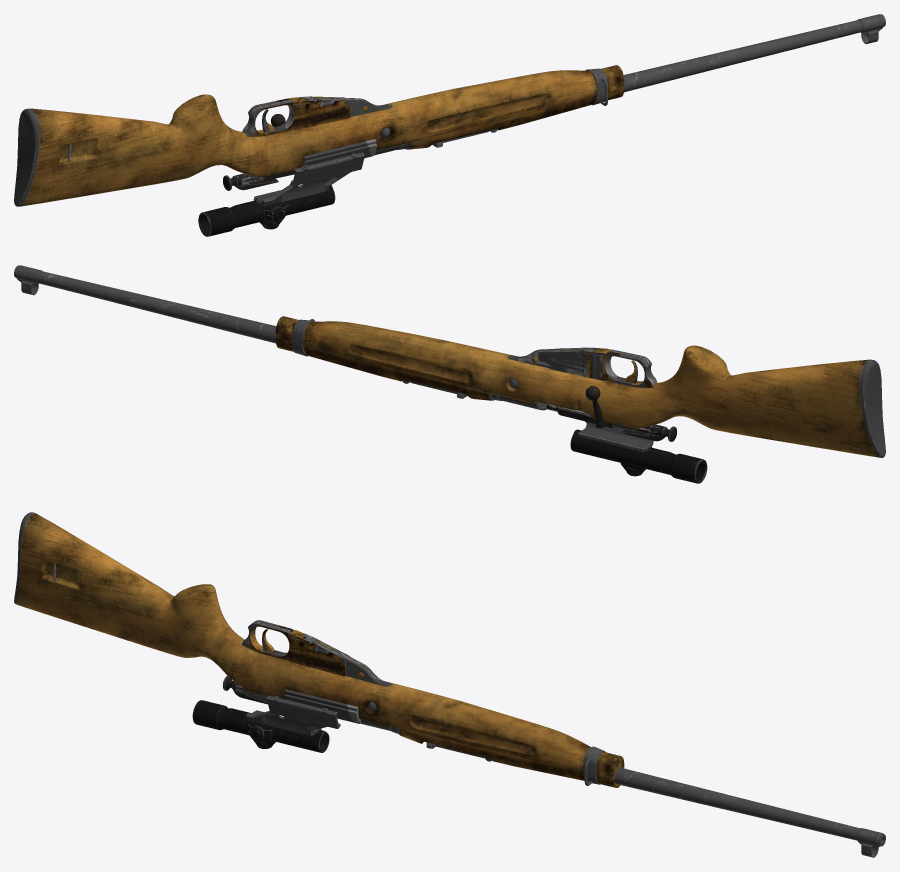
Rendered from nosin.glb.
3 renders of one model, top to bottom at view 1: azimuth 30°, elevation 25°; view 2: azimuth 150°, elevation 25°; view 3: azimuth 330°, elevation 25°, orthographic.
Visible parts, largest first — view 1: base; view 2: base; view 3: base.
Part boxes in pixels (box(x1,y1,x2,y2)): base: box(14, 14, 885, 236); base: box(14, 265, 885, 483); base: box(14, 512, 885, 857).
Bounding box in the file's own units: 0.7279 × 0.1387 × 0.0499.
Materials: 3 (3 with a texture image).
